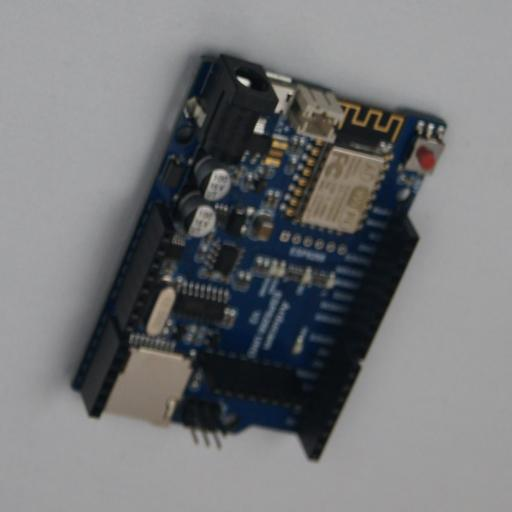Arduino Uno Camera Shield: (66, 50, 447, 461)
